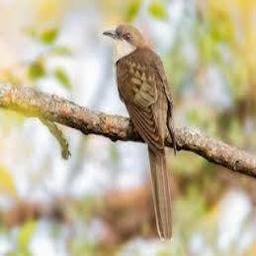Cuckoo: (103, 24, 175, 242)
